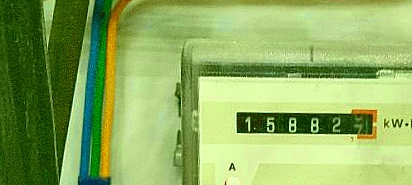1: (242, 114, 252, 132)
2: (330, 115, 341, 133)
5: (264, 115, 275, 133)
7: (352, 123, 363, 134)
8: (285, 115, 297, 133), (308, 115, 319, 133)
screen: (226, 100, 383, 147)
